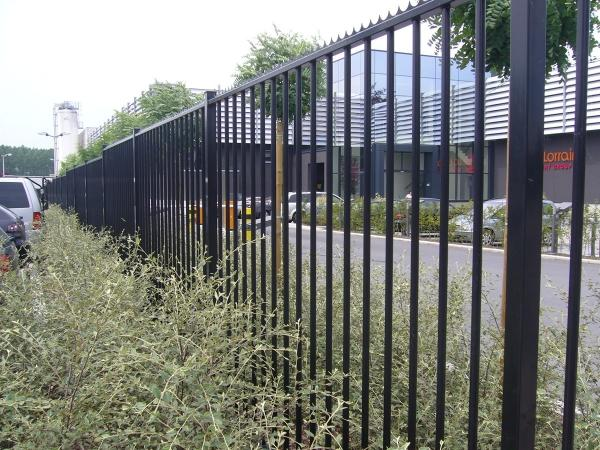obstacle: (14, 32, 589, 425)
